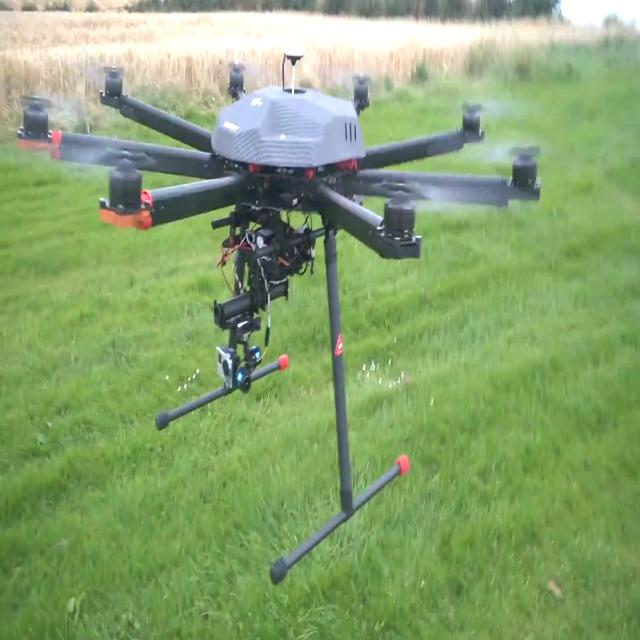drone: (8, 31, 549, 569)
